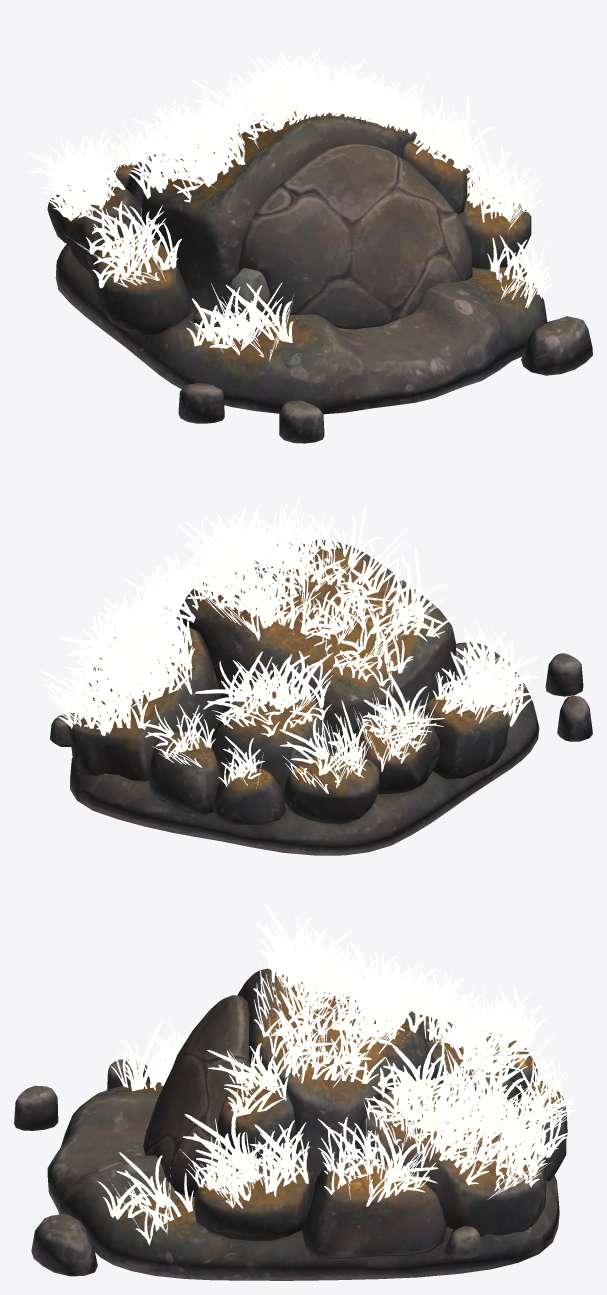
3 views of the same model, one above another, from view 1: azimuth 30°, elevation 25°; view 2: azimuth 150°, elevation 25°; view 3: azimuth 270°, elevation 25° (orthographic). The views are drawn at different scales.
Visible parts, largest first — view 1: SM_Kebbit_Burrow_02v1_LOD0; view 2: SM_Kebbit_Burrow_02v1_LOD0; view 3: SM_Kebbit_Burrow_02v1_LOD0.
Part boxes in pixels (x1,y1,x2,y2): SM_Kebbit_Burrow_02v1_LOD0: (26, 47, 592, 443); SM_Kebbit_Burrow_02v1_LOD0: (40, 496, 592, 855); SM_Kebbit_Burrow_02v1_LOD0: (14, 903, 576, 1280).
Bounding box in the file's own units: 1.67 × 0.9041 × 1.74.
Materials: 2 (2 with a texture image).
